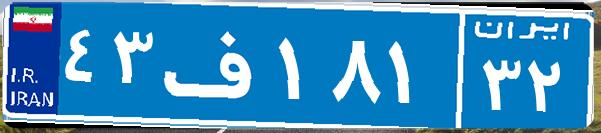1: (385, 28, 445, 110), (273, 28, 330, 110)
2: (525, 38, 570, 115)
3: (475, 38, 525, 113), (110, 28, 158, 105)
4: (57, 26, 110, 107)
8: (330, 28, 385, 110)
ف: (158, 15, 273, 115)
